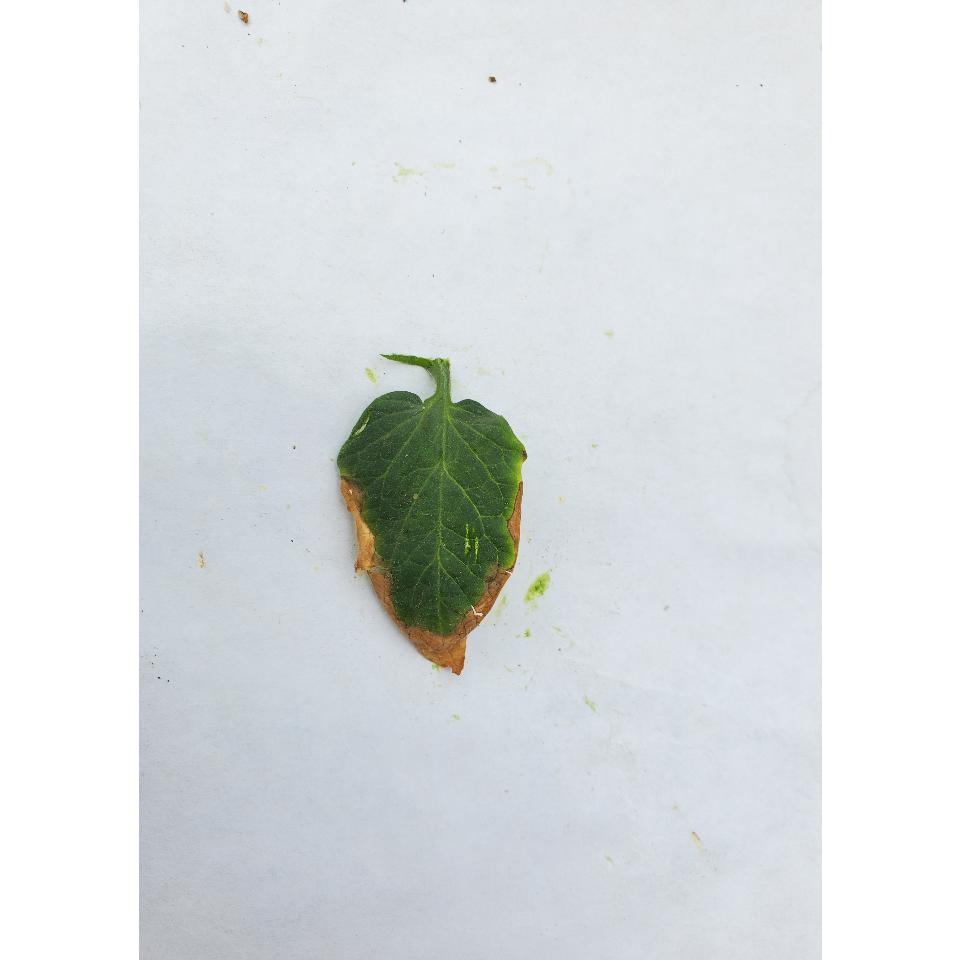tomato_bacterial_blight: (331, 338, 545, 680)
